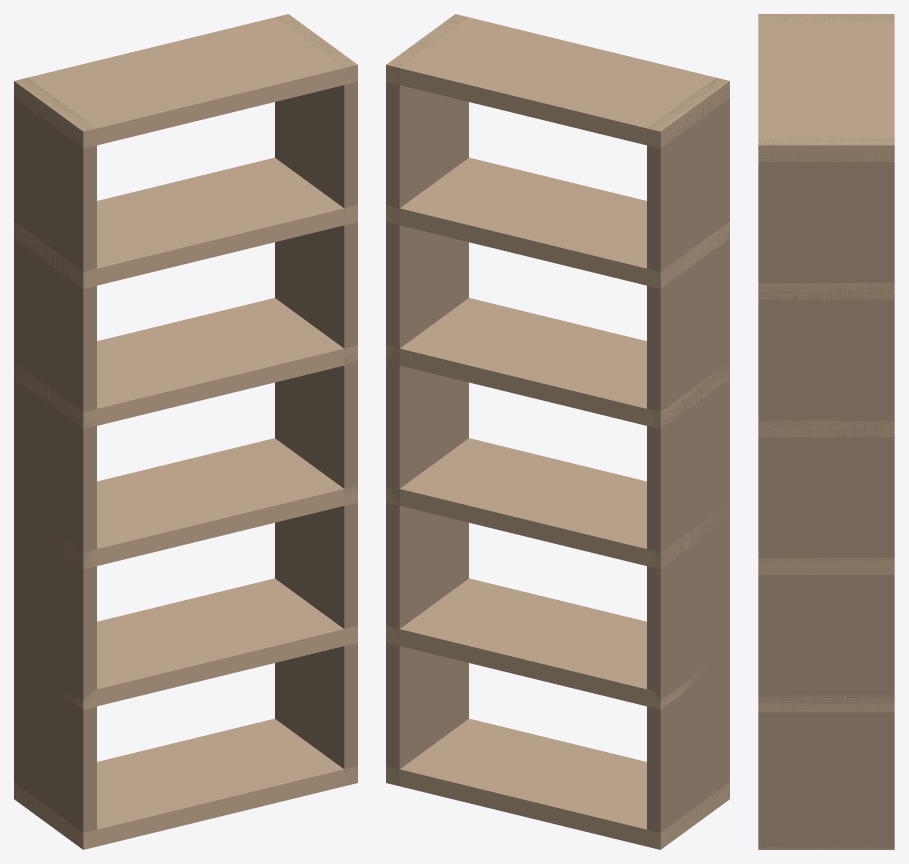
File: shelf.glb
3 views of the same model, side by side, from view 1: azimuth 30°, elevation 25°; view 2: azimuth 150°, elevation 25°; view 3: azimuth 270°, elevation 25° (orthographic).
Parts seen in each view (by area): view 1: side_0, side_1, shelf_7, shelf_2, shelf_6, shelf_5, shelf_4, shelf_3; view 2: side_0, side_1, shelf_7, shelf_2, shelf_6, shelf_5, shelf_4, shelf_3; view 3: side_1, shelf_7, shelf_5, shelf_4, shelf_3, shelf_6, side_0, shelf_2.
Boxes of the visible parts, x1,y1,x2,y2 form: side_0: (14,77,96,849); side_1: (275,15,357,785); shelf_7: (14,14,357,148); shelf_2: (14,718,357,849); shelf_6: (14,157,357,288); shelf_5: (14,298,357,428); shelf_4: (14,438,357,568); shelf_3: (57,578,357,709); side_0: (647,77,729,847); side_1: (386,14,468,785); shelf_7: (386,14,729,148); shelf_2: (386,718,729,849); shelf_6: (386,157,729,288); shelf_5: (386,298,729,428); shelf_4: (386,438,729,568); shelf_3: (386,578,704,709); side_1: (758,139,894,849); shelf_7: (758,14,894,161); shelf_5: (758,420,894,437); shelf_4: (758,558,894,574); shelf_3: (758,695,894,712); shelf_6: (758,283,894,299); side_0: (759,14,894,20); shelf_2: (758,844,894,849).
Size of the model in its own units: 0.8 by 2 by 0.35.
